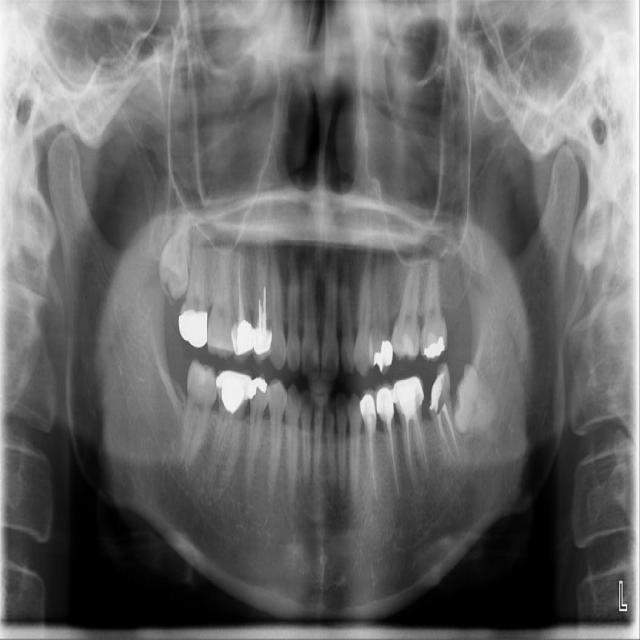Crown: (391, 376, 424, 415), (231, 321, 255, 361), (251, 325, 272, 364), (375, 384, 394, 420), (359, 390, 377, 422)
Filling: (215, 371, 251, 413), (178, 308, 208, 349), (428, 363, 451, 414), (373, 337, 394, 372), (420, 333, 445, 359), (390, 333, 414, 359), (250, 376, 268, 399)
Root Canal Treatment: (444, 405, 459, 459), (439, 412, 456, 457), (406, 425, 416, 485), (389, 438, 398, 491), (239, 251, 245, 319), (370, 436, 376, 496), (416, 425, 424, 469)
impacted tooth: (453, 364, 501, 434), (156, 204, 191, 296)
